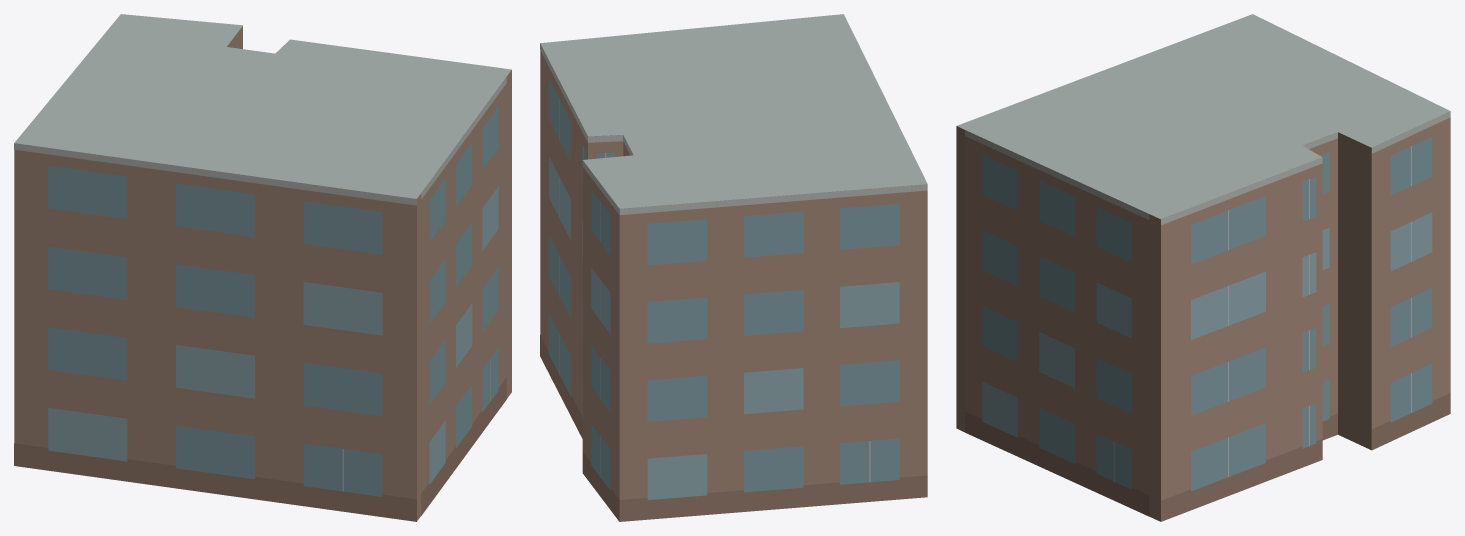
File: survey-upis-32770721.glb
3 views of the same model, side by side, from view 1: azimuth 30°, elevation 25°; view 2: azimuth 150°, elevation 25°; view 3: azimuth 270°, elevation 25° (orthographic). The views are drawn at different scales.
Parts seen in each view (by area): view 1: survey-upis-32770721.tmp; view 2: survey-upis-32770721.tmp; view 3: survey-upis-32770721.tmp.
Boxes of the visible parts, x1,y1,x2,y2 form: survey-upis-32770721.tmp: (14,14,511,521); survey-upis-32770721.tmp: (540,14,927,521); survey-upis-32770721.tmp: (956,14,1450,521).
Size of the model in its own units: 17.46 by 12 by 17.78.
